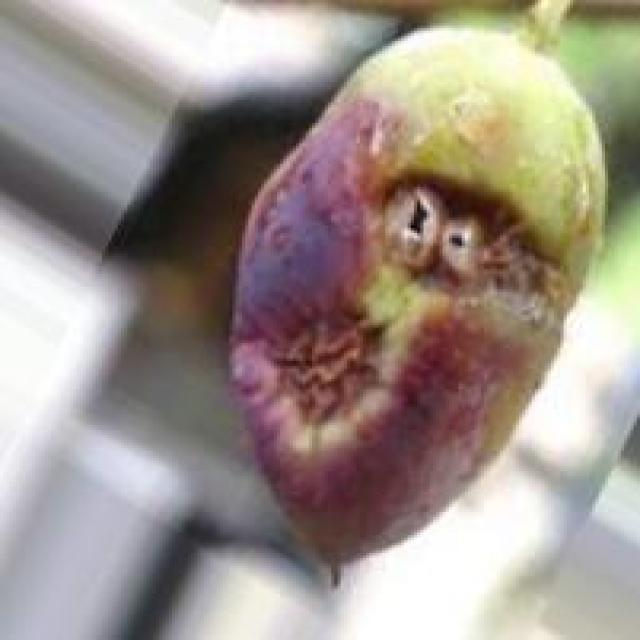Anthracnose: (233, 34, 602, 575)
